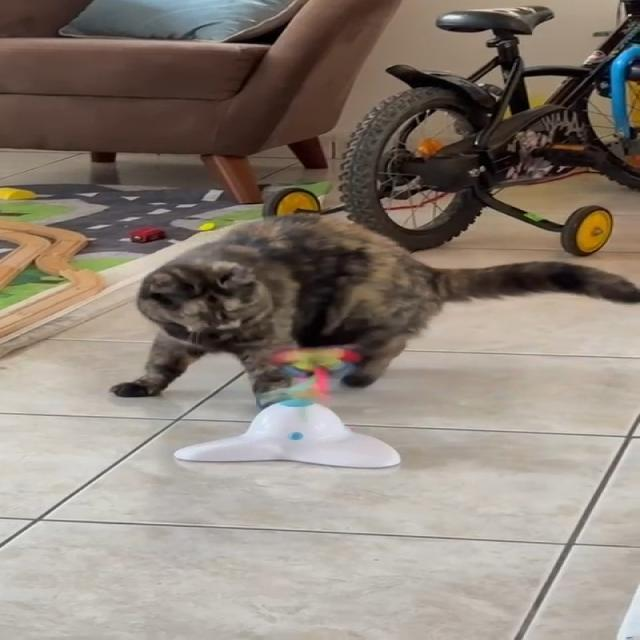authorized: (108, 212, 639, 408)
